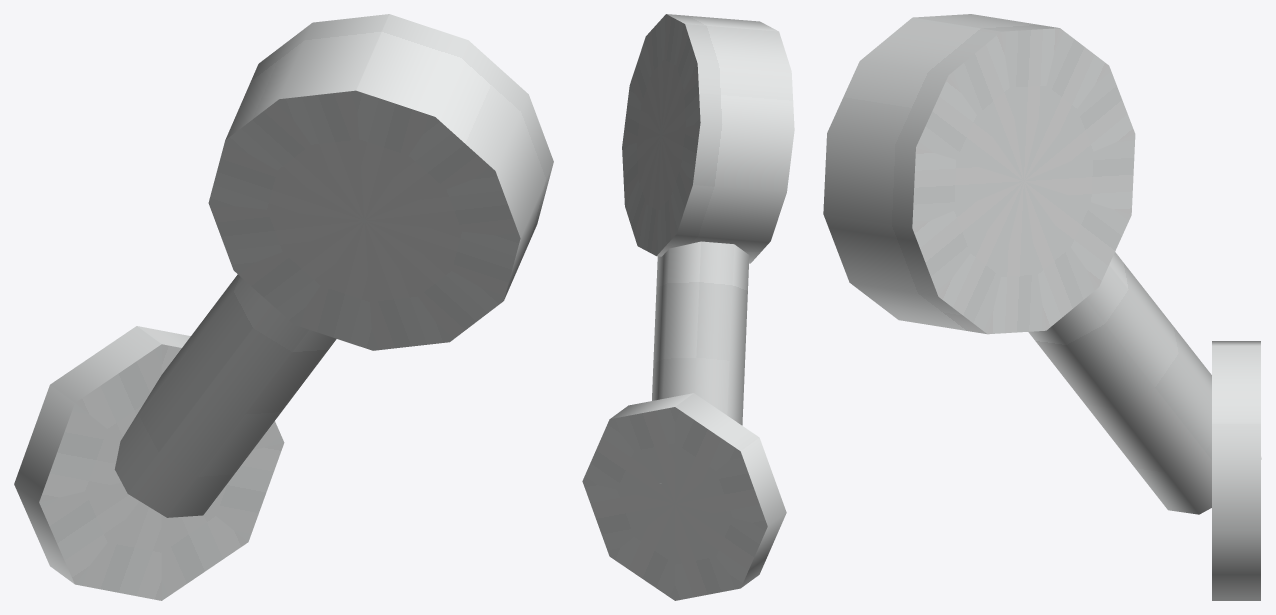
Rendered from nycsignalarm_stub_204.obj.
3 renders of one model, left to right at view 1: azimuth 30°, elevation 25°; view 2: azimuth 150°, elevation 25°; view 3: azimuth 270°, elevation 25°, orthographic. The views are drawn at different scales.
Visible parts, largest first — view 1: nycsignalarm_stub_204; view 2: nycsignalarm_stub_204; view 3: nycsignalarm_stub_204.
Boxes of the visible parts, <box> form: nycsignalarm_stub_204: <box>14,14,553,600</box>; nycsignalarm_stub_204: <box>582,14,794,600</box>; nycsignalarm_stub_204: <box>823,14,1261,600</box>.
Size of the model in its own units: 0.5154 by 0.868 by 0.5545.
